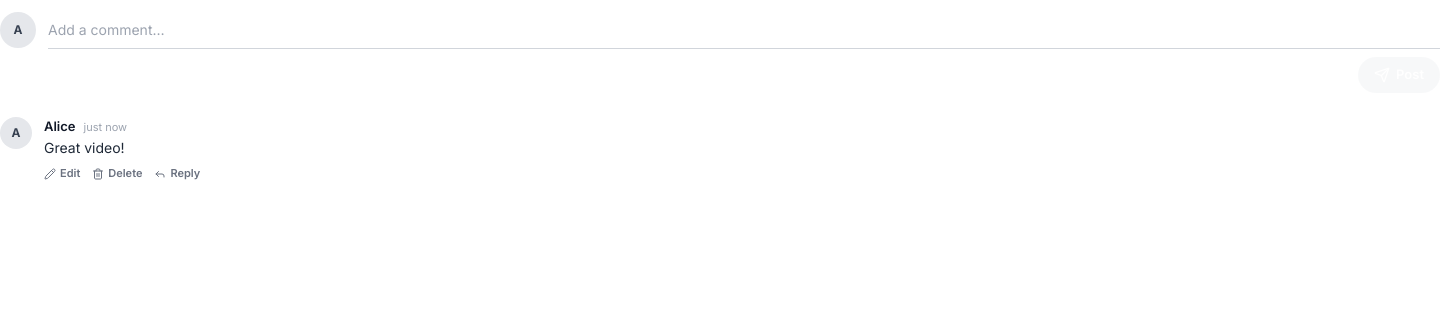
Scenario: CommentsSection › disables the reply post button while a reply is posting
The width and height of the screenshot is (1452, 309).
Check: the text "Great video!" is shown, box [44, 138, 125, 156]
Click the button "Reply": x=177, y=174 [154, 165, 200, 182]
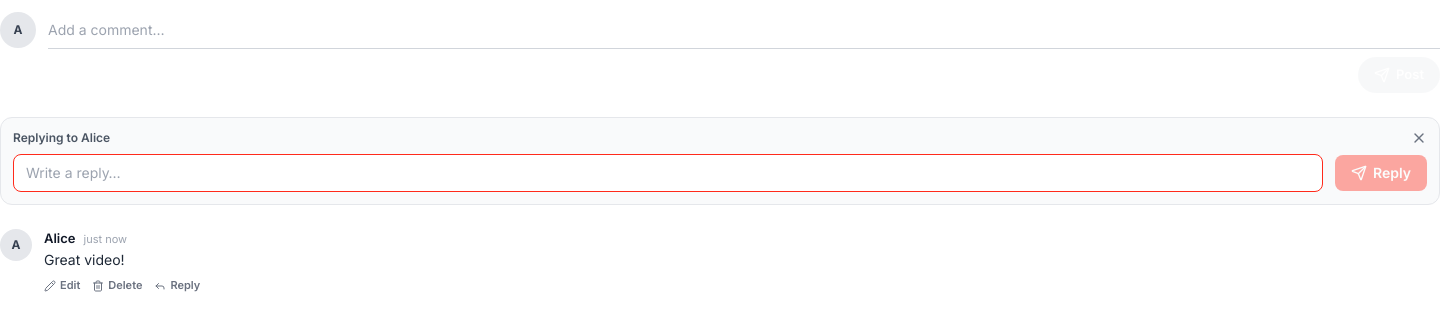
In the field labelled "Write a reply": x=668, y=173 [13, 154, 1323, 192], type "same here"
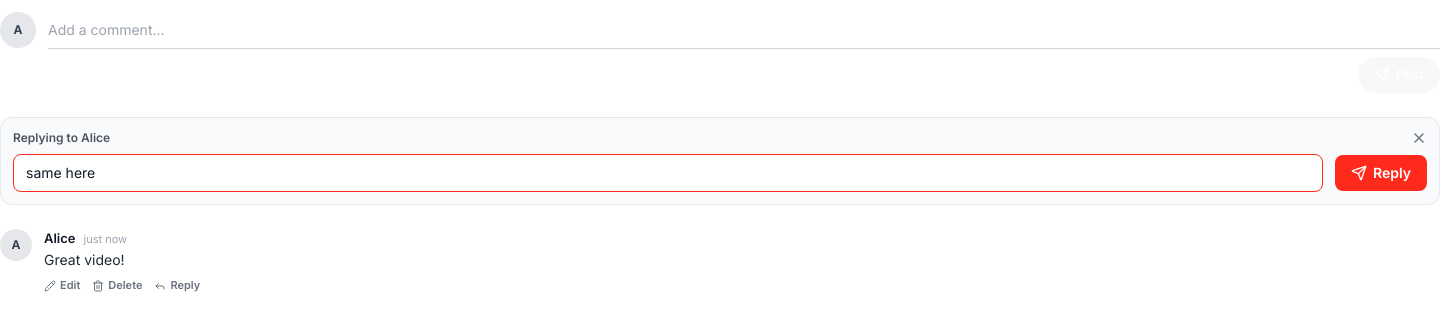
Click the button with aria-label "Post reply": x=1381, y=173 [1335, 155, 1427, 191]
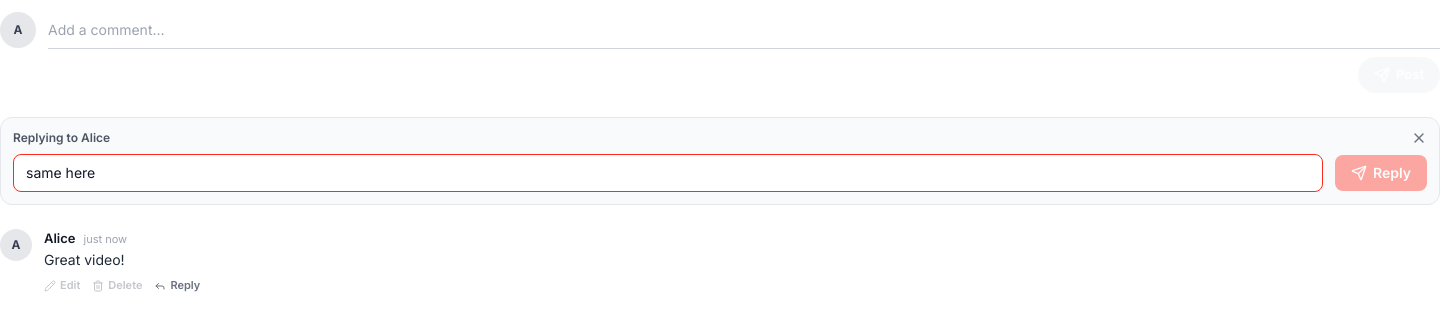
Check: the button with aria-label "Post reply" is disabled, box [1335, 155, 1427, 191]
